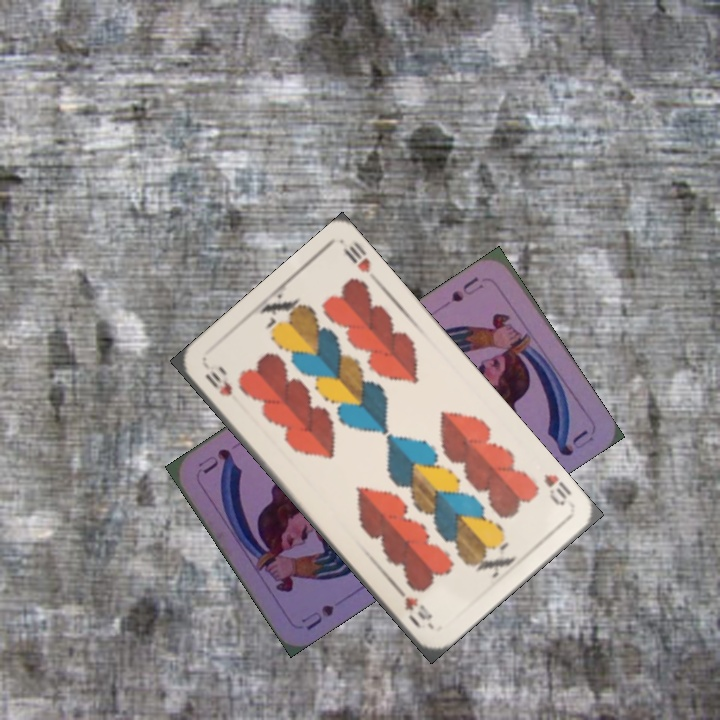H10: (539, 469, 574, 509), (200, 367, 235, 399)
SU: (437, 272, 486, 312), (297, 600, 337, 633)
